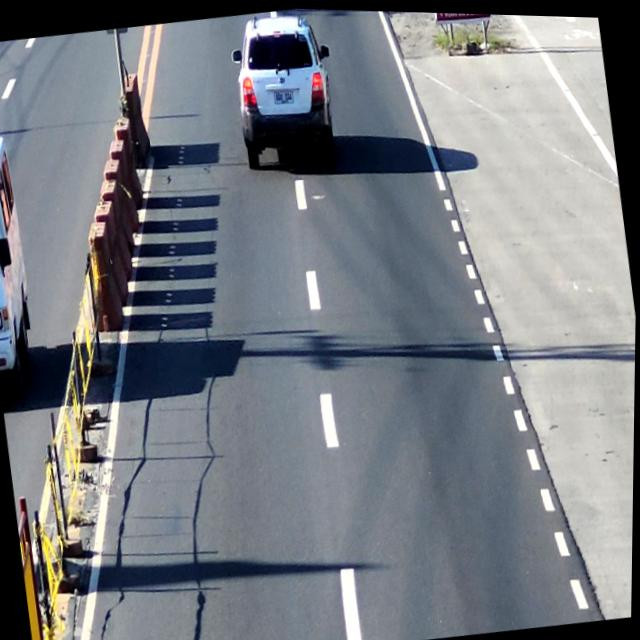Car: (222, 5, 340, 170)
License-Plate: (269, 81, 297, 110)
